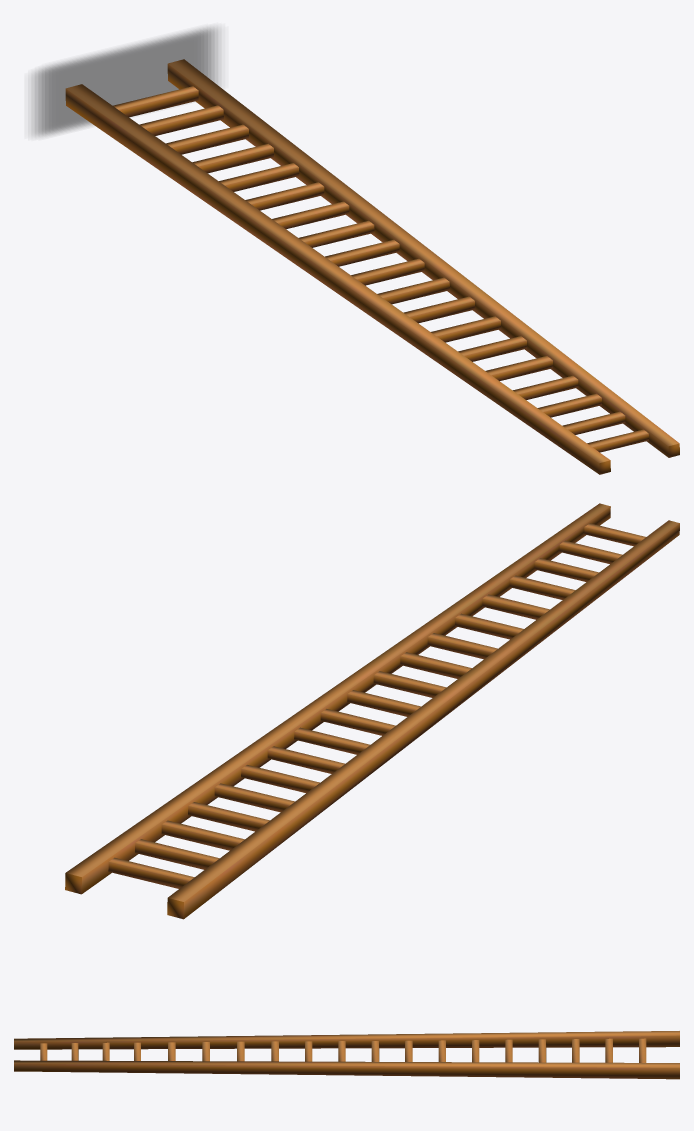
Rendered from ladder.glb.
3 renders of one model, top to bottom at view 1: azimuth 30°, elevation 25°; view 2: azimuth 150°, elevation 25°; view 3: azimuth 270°, elevation 25°, orthographic. The views are drawn at different scales.
Visible parts, largest first — view 1: pCylinder27, pCylinder2, shadow, pCylinder6, pCylinder7, pCylinder8, pCylinder9, pCylinder10, pCylinder11, pCylinder12, pCylinder13, pCylinder14 (+10 smaller); view 2: pCylinder27, pCylinder2, pCylinder6, pCylinder7, pCylinder8, pCylinder9, pCylinder10, pCylinder11, pCylinder12, pCylinder13, pCylinder14, pCylinder17 (+9 smaller); view 3: pCylinder2, pCylinder27.
Part boxes in pixels (x1,y1,x2,y2): pCylinder27: (65,84,610,474); pCylinder2: (167,59,679,457); shadow: (31,27,218,136); pCylinder6: (113,86,198,117); pCylinder7: (139,105,223,135); pCylinder8: (166,124,248,154); pCylinder9: (192,143,273,173); pCylinder10: (219,163,299,191); pCylinder11: (245,182,324,210); pCylinder12: (272,201,349,229); pCylinder13: (299,220,374,247); pCylinder14: (325,239,399,266); pCylinder27: (167,520,679,919); pCylinder2: (65,503,610,894); pCylinder6: (108,857,194,888); pCylinder7: (135,839,219,869); pCylinder8: (161,820,244,850); pCylinder9: (188,802,269,831); pCylinder10: (214,783,294,812); pCylinder11: (241,765,319,792); pCylinder12: (267,746,344,773); pCylinder13: (294,727,370,754); pCylinder14: (320,709,395,735); pCylinder17: (400,652,471,678); pCylinder2: (14,1060,679,1079); pCylinder27: (14,1031,679,1049).
Bounding box in the file's own units: 4.96 × 1.77 × 19.94.
2 materials, 2 textured.
